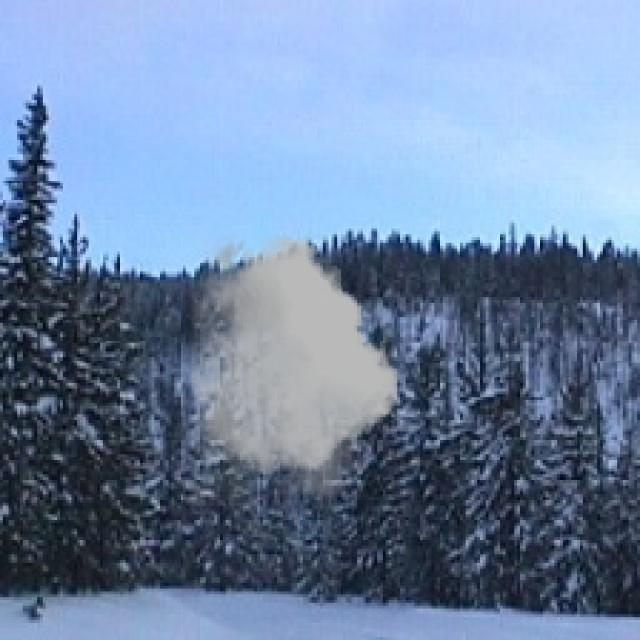Smoke: (191, 231, 400, 506)
